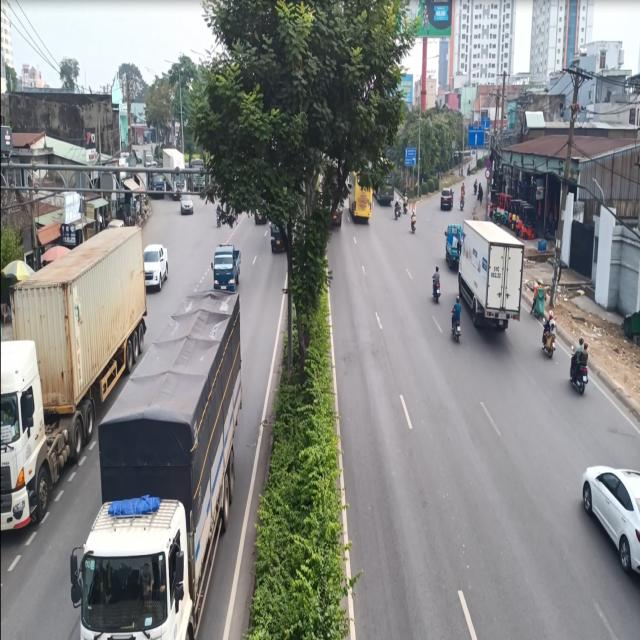car: (578, 441, 640, 592), (145, 230, 169, 298)
motor: (564, 328, 592, 404), (538, 297, 562, 360)
truck: (67, 283, 248, 640), (0, 218, 144, 548), (459, 220, 531, 340), (210, 234, 243, 292)
